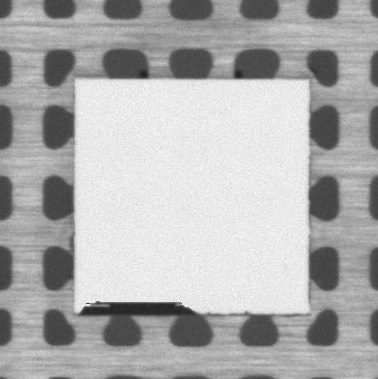DIE_BROKEN: (72, 297, 203, 318)
